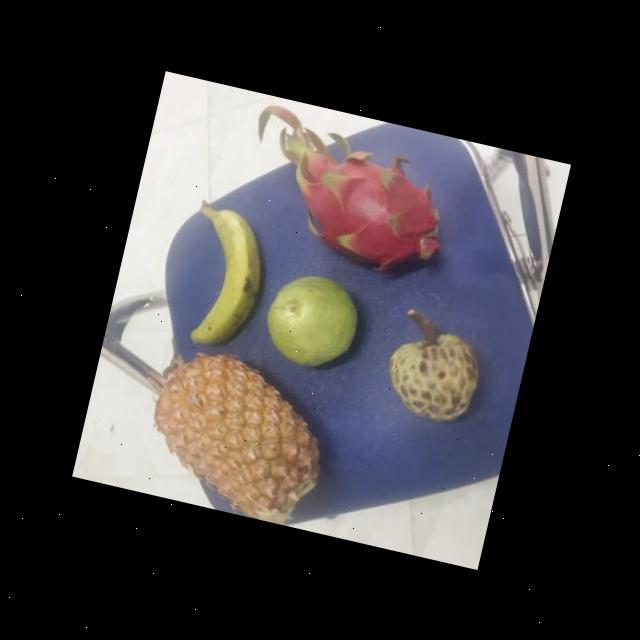Sakya fruit: (378, 316, 487, 434)
banana: (150, 200, 276, 366)
guava: (256, 266, 364, 382)
pineapple: (140, 346, 340, 530)
pitaya: (274, 137, 456, 290)
